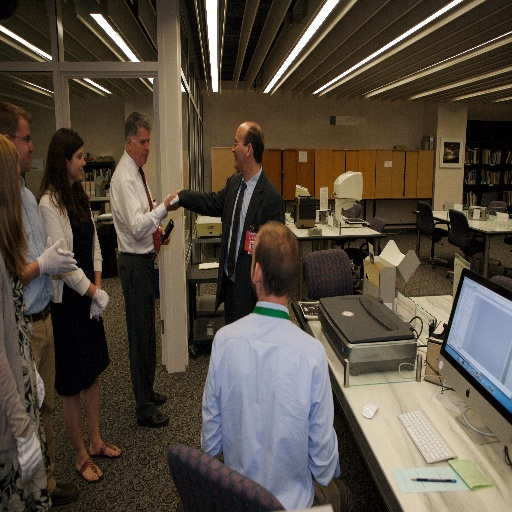hand: (16, 433, 43, 489), (42, 236, 78, 277), (44, 234, 74, 261), (165, 185, 183, 214), (35, 366, 46, 409), (95, 287, 109, 314), (89, 300, 103, 322), (160, 227, 171, 246)
